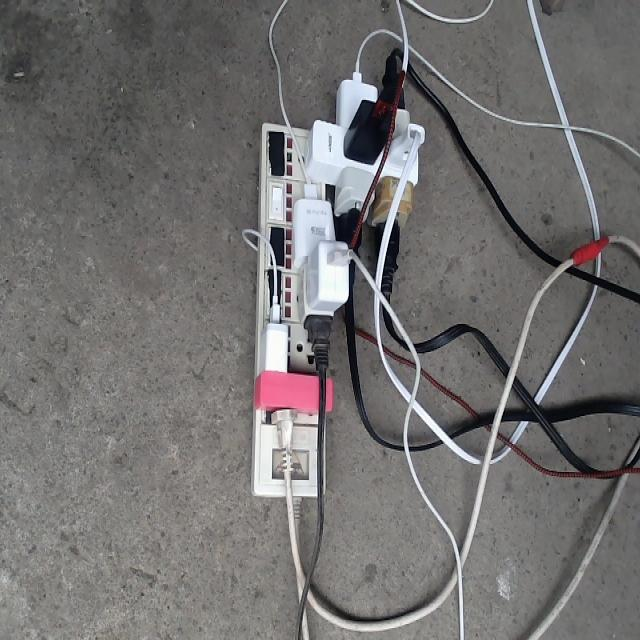-: (250, 48, 425, 497)
